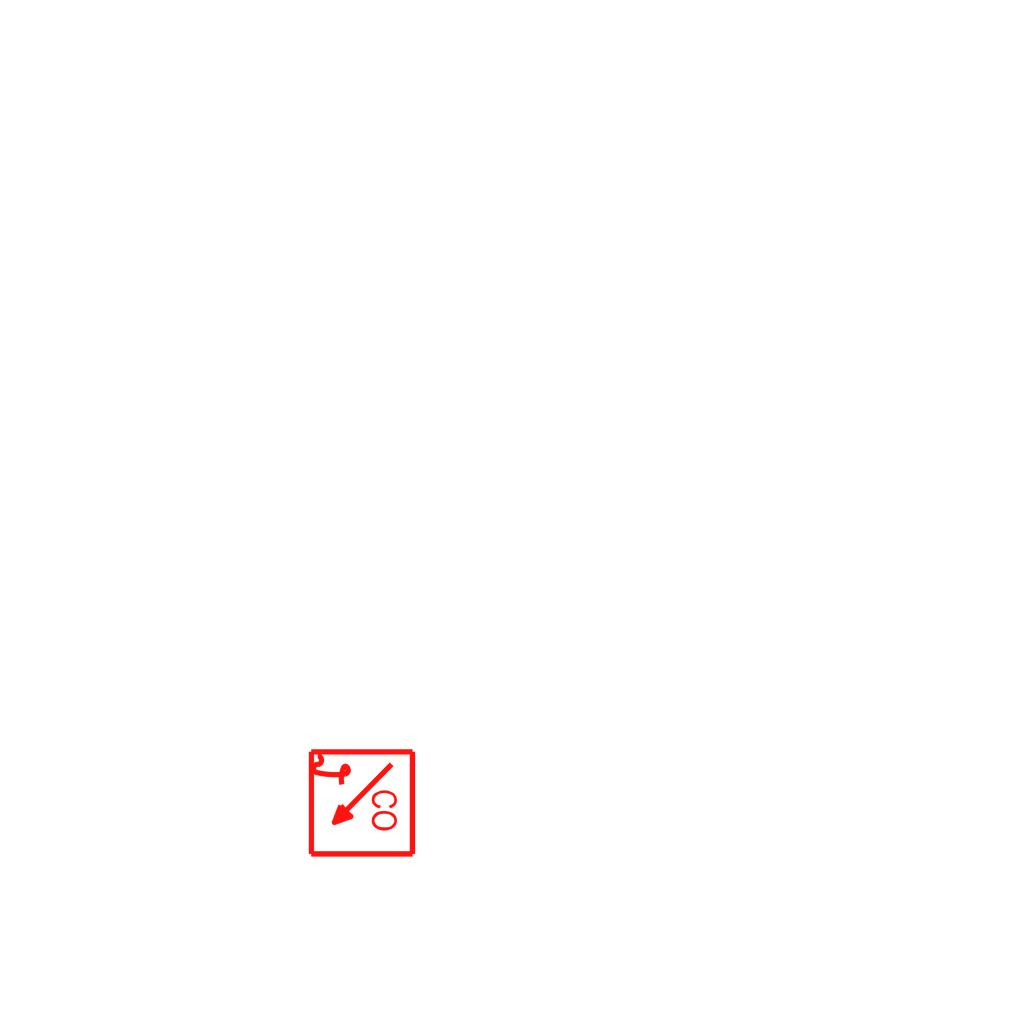ROA_Rauchmelder_optisch_mit_Signalgeber_(Sockelsirene): (304, 747, 417, 860)
